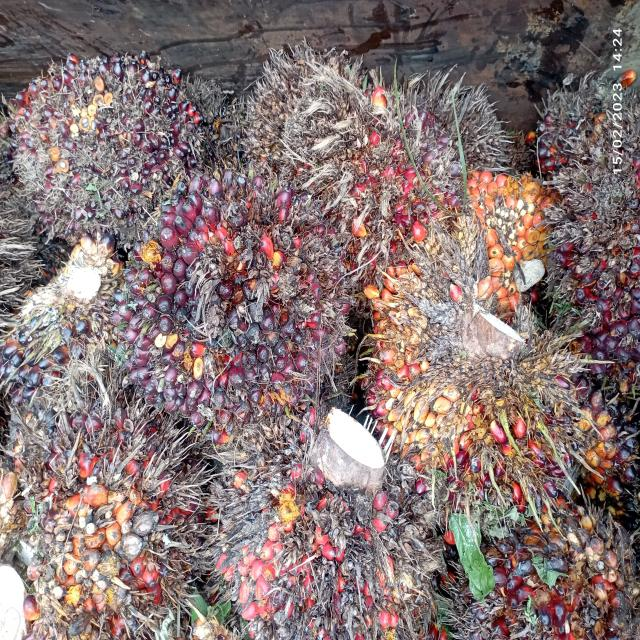fraksi 00: (13, 43, 214, 224)
fraksi 1: (119, 154, 341, 437)
fraksi 3: (354, 243, 582, 527), (219, 435, 427, 640)
fraksi 4: (30, 390, 207, 640), (295, 51, 486, 265), (455, 133, 558, 295)
